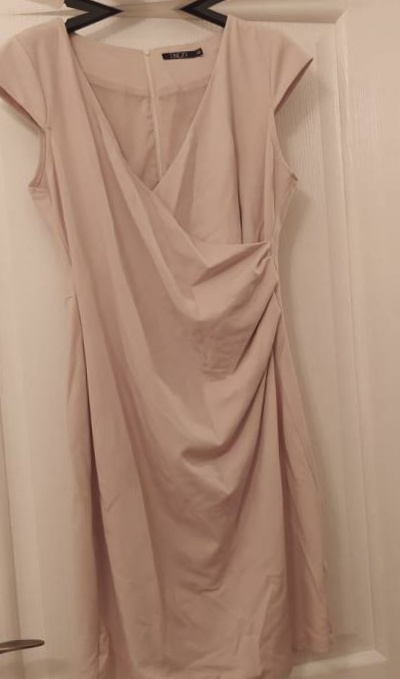Dress: (0, 19, 367, 679)
